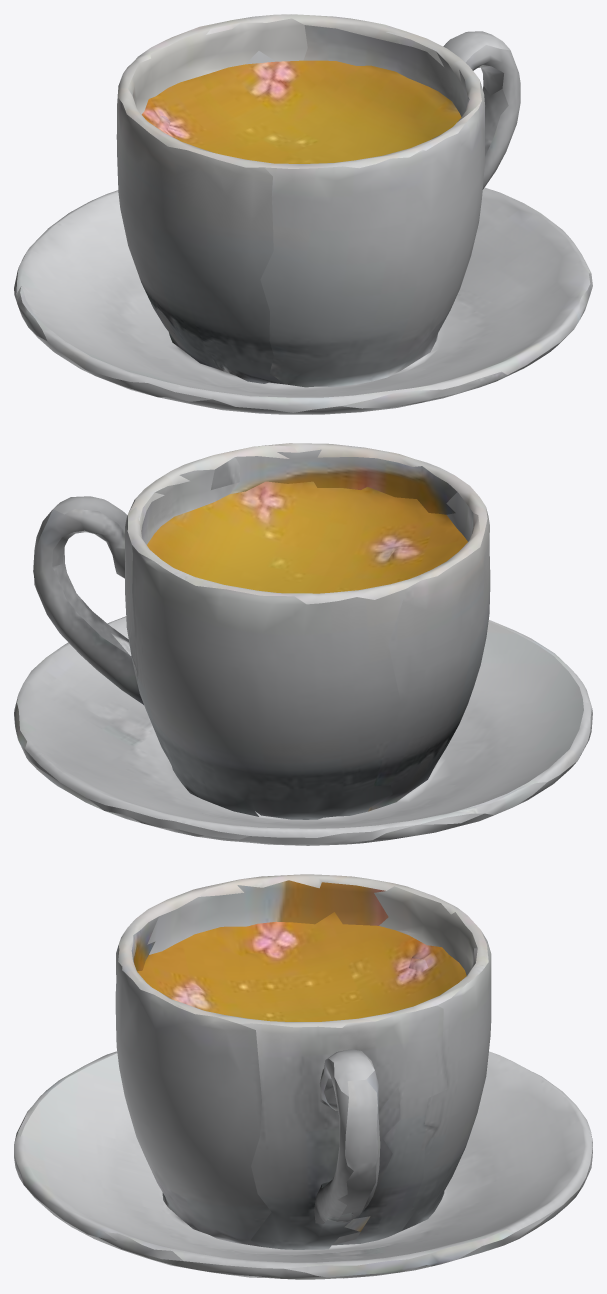
File: blossom_tea.glb
3 renders of one model, top to bottom at view 1: azimuth 30°, elevation 25°; view 2: azimuth 150°, elevation 25°; view 3: azimuth 270°, elevation 25°, orthographic.
Parts seen in each view (by area): view 1: blossom_tea_n; view 2: blossom_tea_n; view 3: blossom_tea_n.
Boxes of the visible parts, box(x1,y1,x2,y2) form: blossom_tea_n: box(14, 14, 592, 414); blossom_tea_n: box(14, 443, 592, 845); blossom_tea_n: box(14, 874, 592, 1279).
Size of the model in its own units: 1 by 0.4824 by 0.9924.
1 material, 1 textured.
